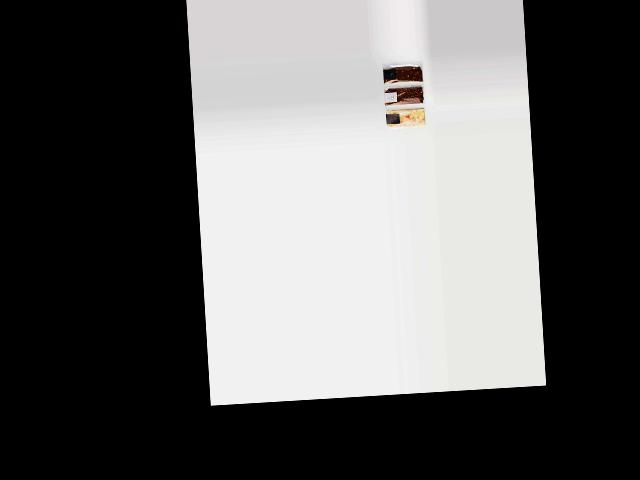chocolate: (383, 58, 427, 85)
